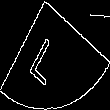L_NE: (35, 25, 75, 85)
